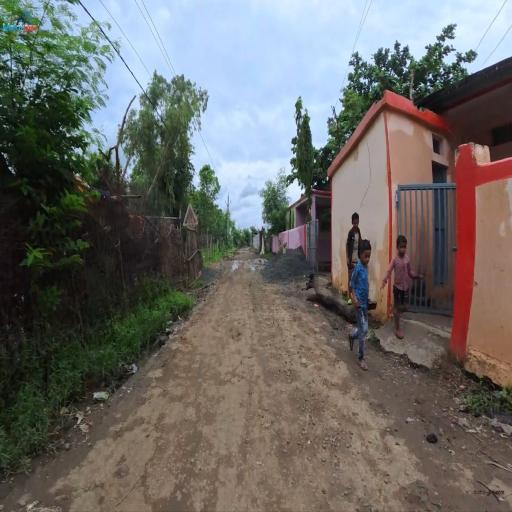ravelling: (209, 322, 338, 478)
